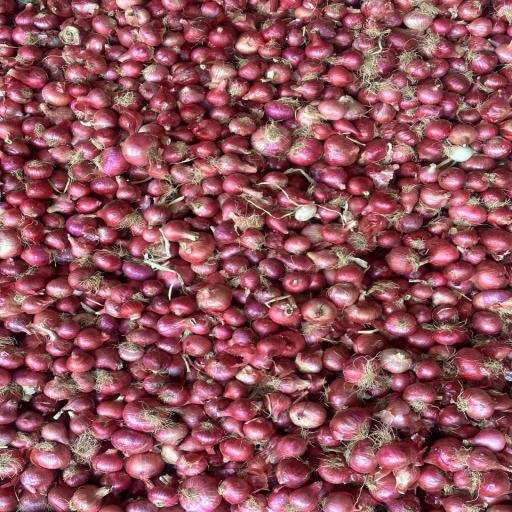healthy: (96, 140, 295, 425), (286, 100, 478, 378)
